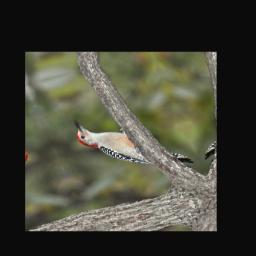Woodpecker: (69, 95, 195, 188)
